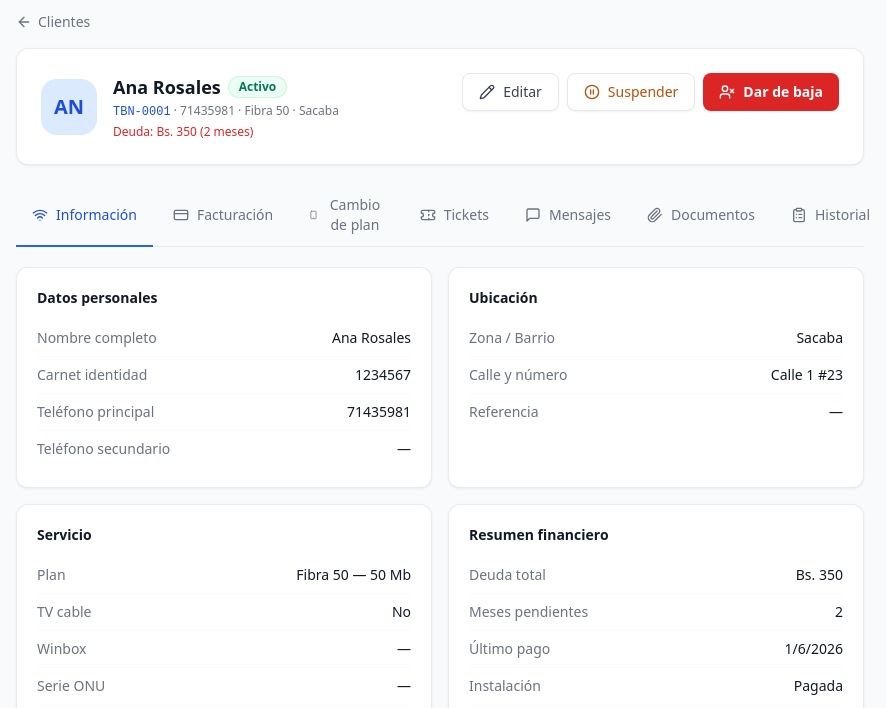
ClientProfilePage — TC-FE-PROF-01 a TC-FE-PROF-09 (red de seguridad refactor B) › TC-FE-PROF-04 — pestaña Facturación carga la grilla y el historial de pagos
Expected: the heading "Ana Rosales" is shown, [113,73,221,101]
Click the button "Facturación". click: (223, 216)
box: [157,185,289,247]
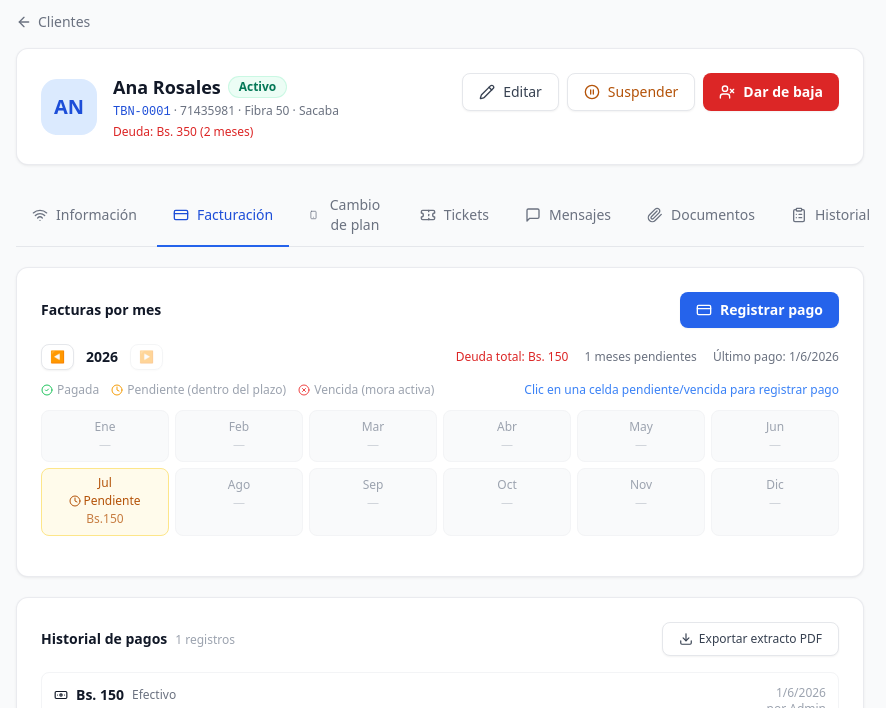
Expected: the heading "Facturas por mes" is shown, [41,300,161,320]
Expected: the heading "Historial de pagos1 registros" is shown, [41,629,235,649]
Expected: the text "Efectivo" is shown, [132,687,176,703]
